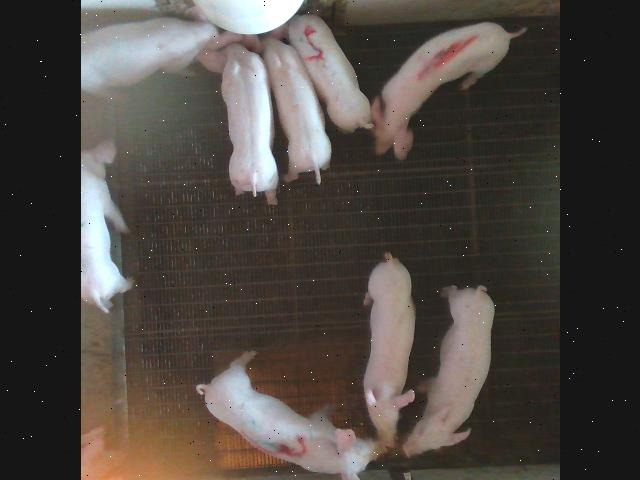pig-1: (370, 22, 525, 159)
pig-3: (196, 351, 385, 480)
pig-5: (288, 15, 371, 132)
